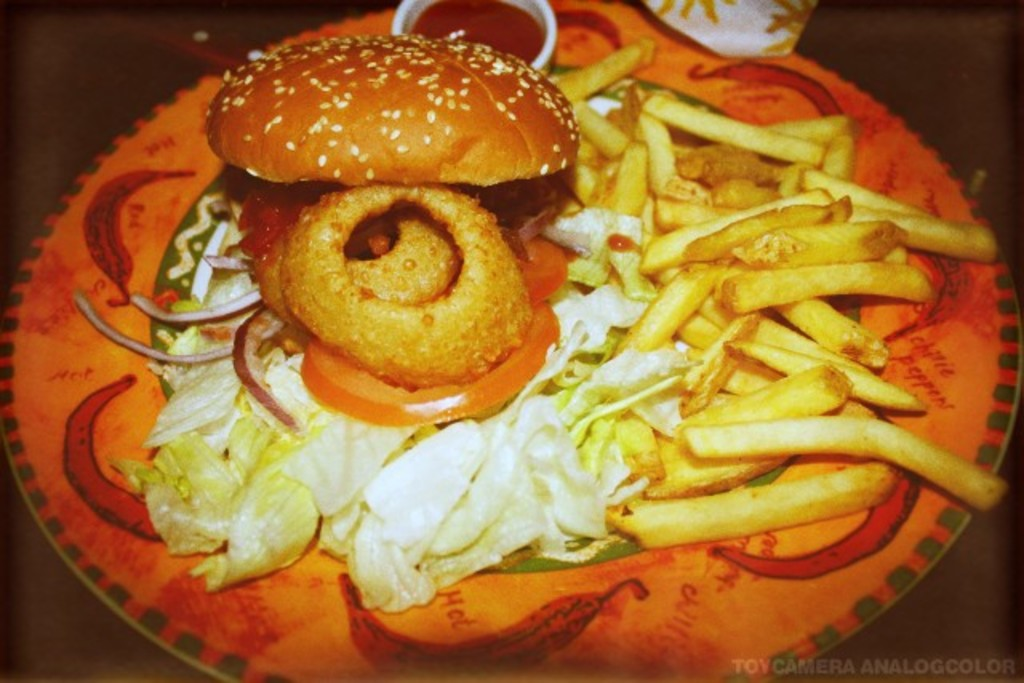French fries: (540, 127, 984, 564)
